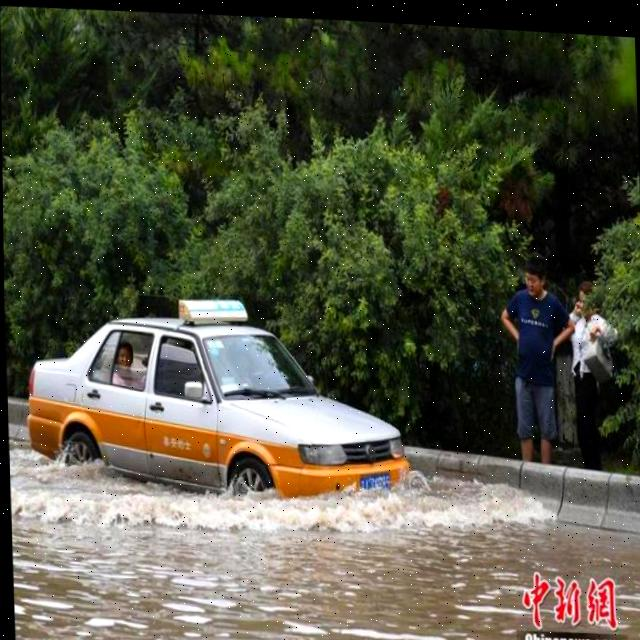civilian: (495, 250, 568, 472), (561, 275, 625, 482)
